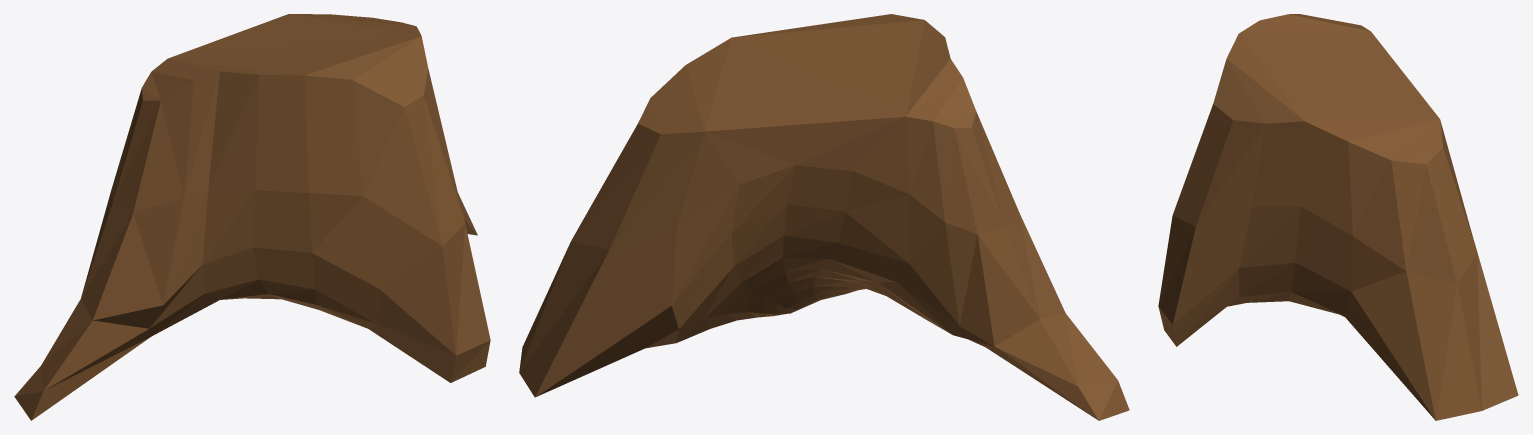
File: stup 2.fbx
The picture shows the model from 3 angles, left to right: view 1: azimuth 30°, elevation 25°; view 2: azimuth 150°, elevation 25°; view 3: azimuth 270°, elevation 25°; orthographic projection. The views are drawn at different scales.
Visible parts, largest first — view 1: tree_2; view 2: tree_2; view 3: tree_2.
Boxes of the visible parts, x1,y1,x2,y2 form: tree_2: (14,14,490,420); tree_2: (519,14,1129,420); tree_2: (1158,14,1518,420).
Bounding box in the file's own units: 352 × 200 × 244.
